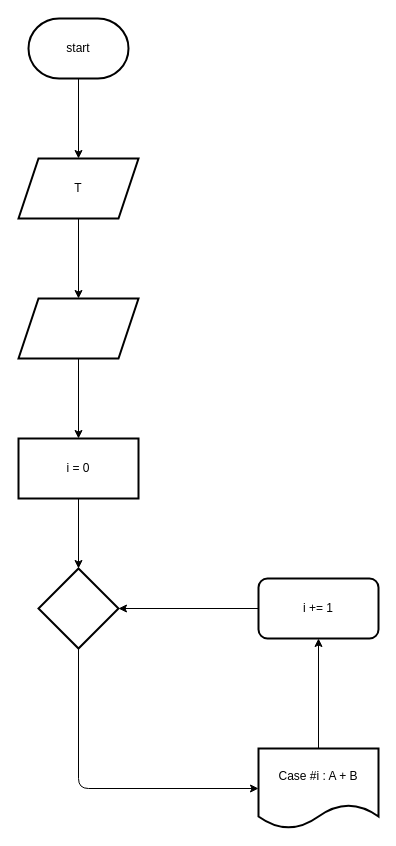
Some shapes in this 396 by 846 pixel diagram are drawn without their labels. Each missing label, with the centre of its shape:
A, B: [78,328]
i < N: [78,608]
